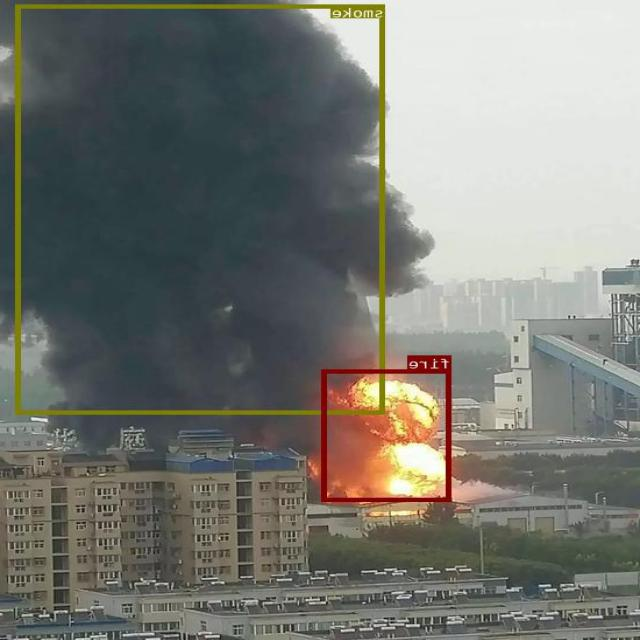fire: (323, 369, 452, 501)
smoke: (17, 4, 385, 413)
